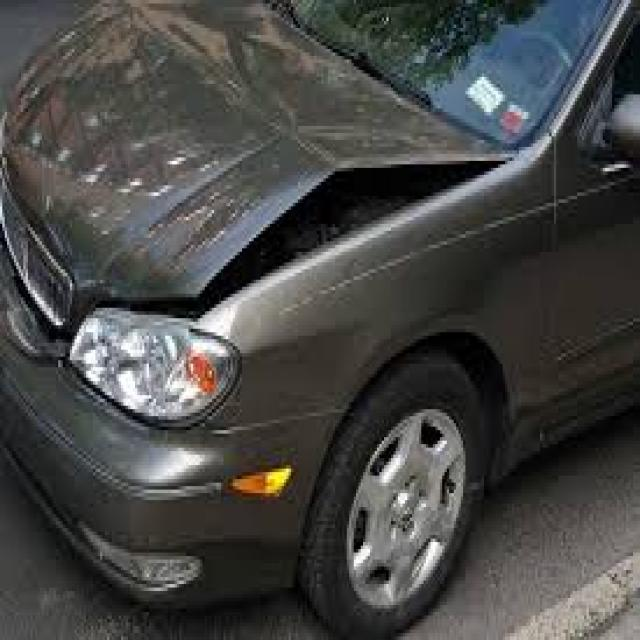minor: (22, 16, 556, 367)
